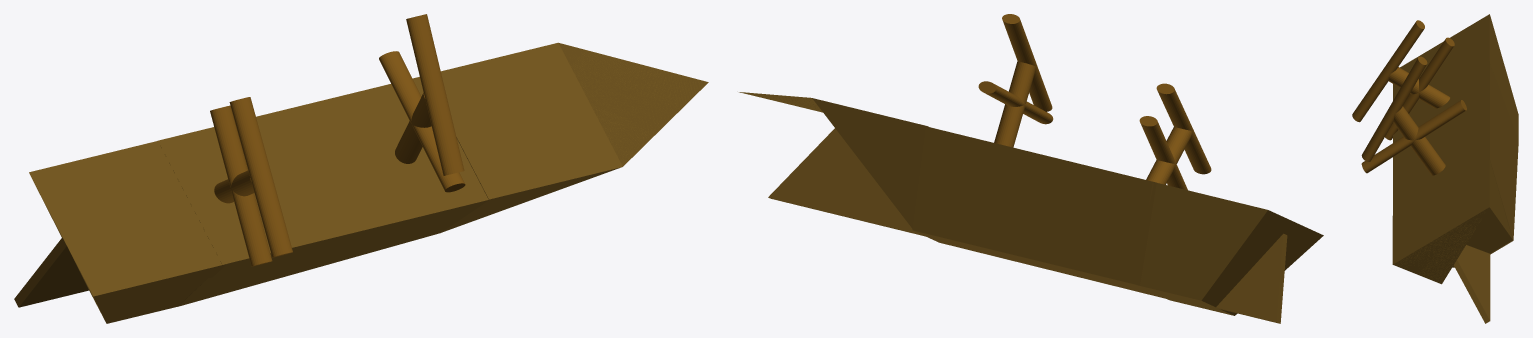
Rendered from shipwreck.fbx.
3 views of the same model, side by side, from view 1: azimuth 30°, elevation 25°; view 2: azimuth 150°, elevation 25°; view 3: azimuth 270°, elevation 25° (orthographic). The views are drawn at different scales.
Visible parts, largest first — view 1: Cube.004, Cylinder.007, Cylinder.004, Cylinder.008, Cylinder.003, Cylinder.005, Cylinder.006; view 2: Cube.004, Cylinder.005, Cylinder.004, Cylinder.007, Cylinder.008, Cylinder.006, Cylinder.003; view 3: Cube.004, Cylinder.007, Cylinder.003, Cylinder.004, Cylinder.005, Cylinder.008, Cylinder.006.
Part boxes in pixels (x1,y1,x2,y2): Cube.004: (14,42,708,323); Cylinder.007: (229,97,292,257); Cylinder.004: (406,14,464,175); Cylinder.008: (210,105,272,266); Cylinder.003: (379,51,465,192); Cylinder.005: (395,93,431,163); Cylinder.006: (214,170,254,203); Cube.004: (739,92,1323,323); Cylinder.005: (994,61,1035,147); Cylinder.004: (1002,14,1052,111); Cylinder.007: (1156,83,1211,174); Cylinder.008: (1139,116,1187,190); Cylinder.006: (1146,127,1192,184); Cylinder.003: (978,81,1053,124); Cube.004: (1392,14,1518,323); Cylinder.007: (1352,20,1424,122); Cylinder.003: (1361,100,1466,173); Cylinder.004: (1361,56,1427,161); Cylinder.005: (1393,106,1445,175); Cylinder.008: (1385,37,1454,140); Cylinder.006: (1388,67,1449,108).
Bounding box in the file's own units: 493 × 185 × 144.
